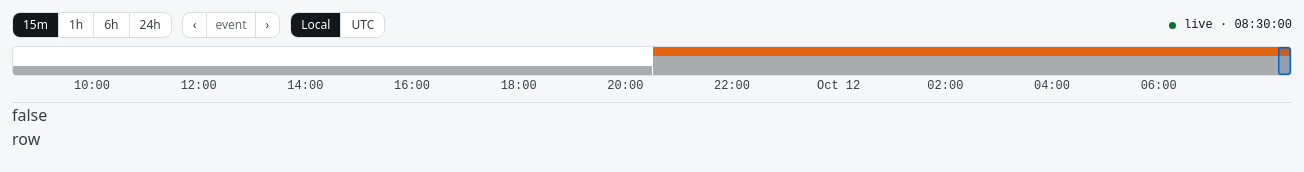
it: a track › pins the moment clicked
Click the button "UTC" at (362, 25), box [340,13,384,37]
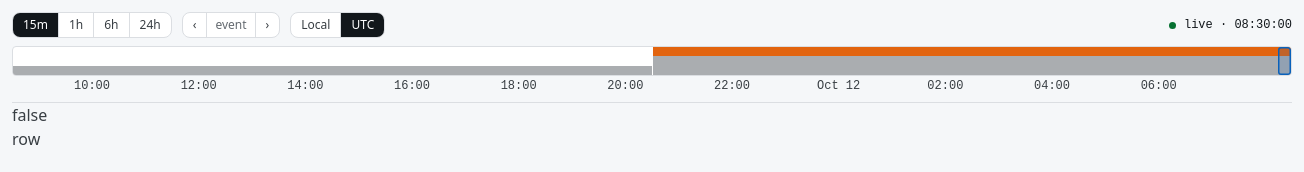
Press the mouse on the element showing "row" at (26, 139), box [12,128,40,150]
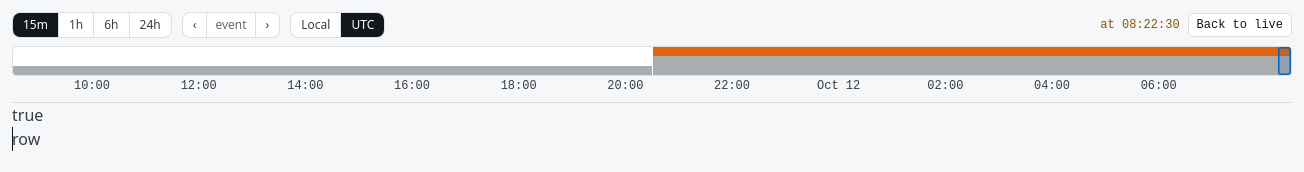
Check: the element showing "at 08:22:30 Back to live" is shown, box [1100,13,1292,37]
